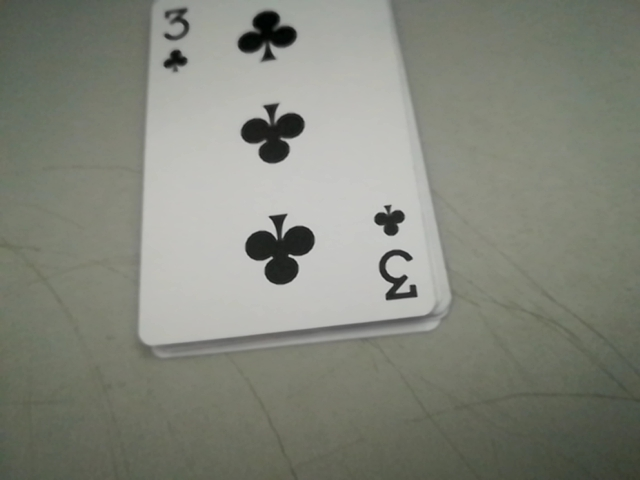mh 3: (368, 202, 426, 305), (149, 0, 198, 79)
